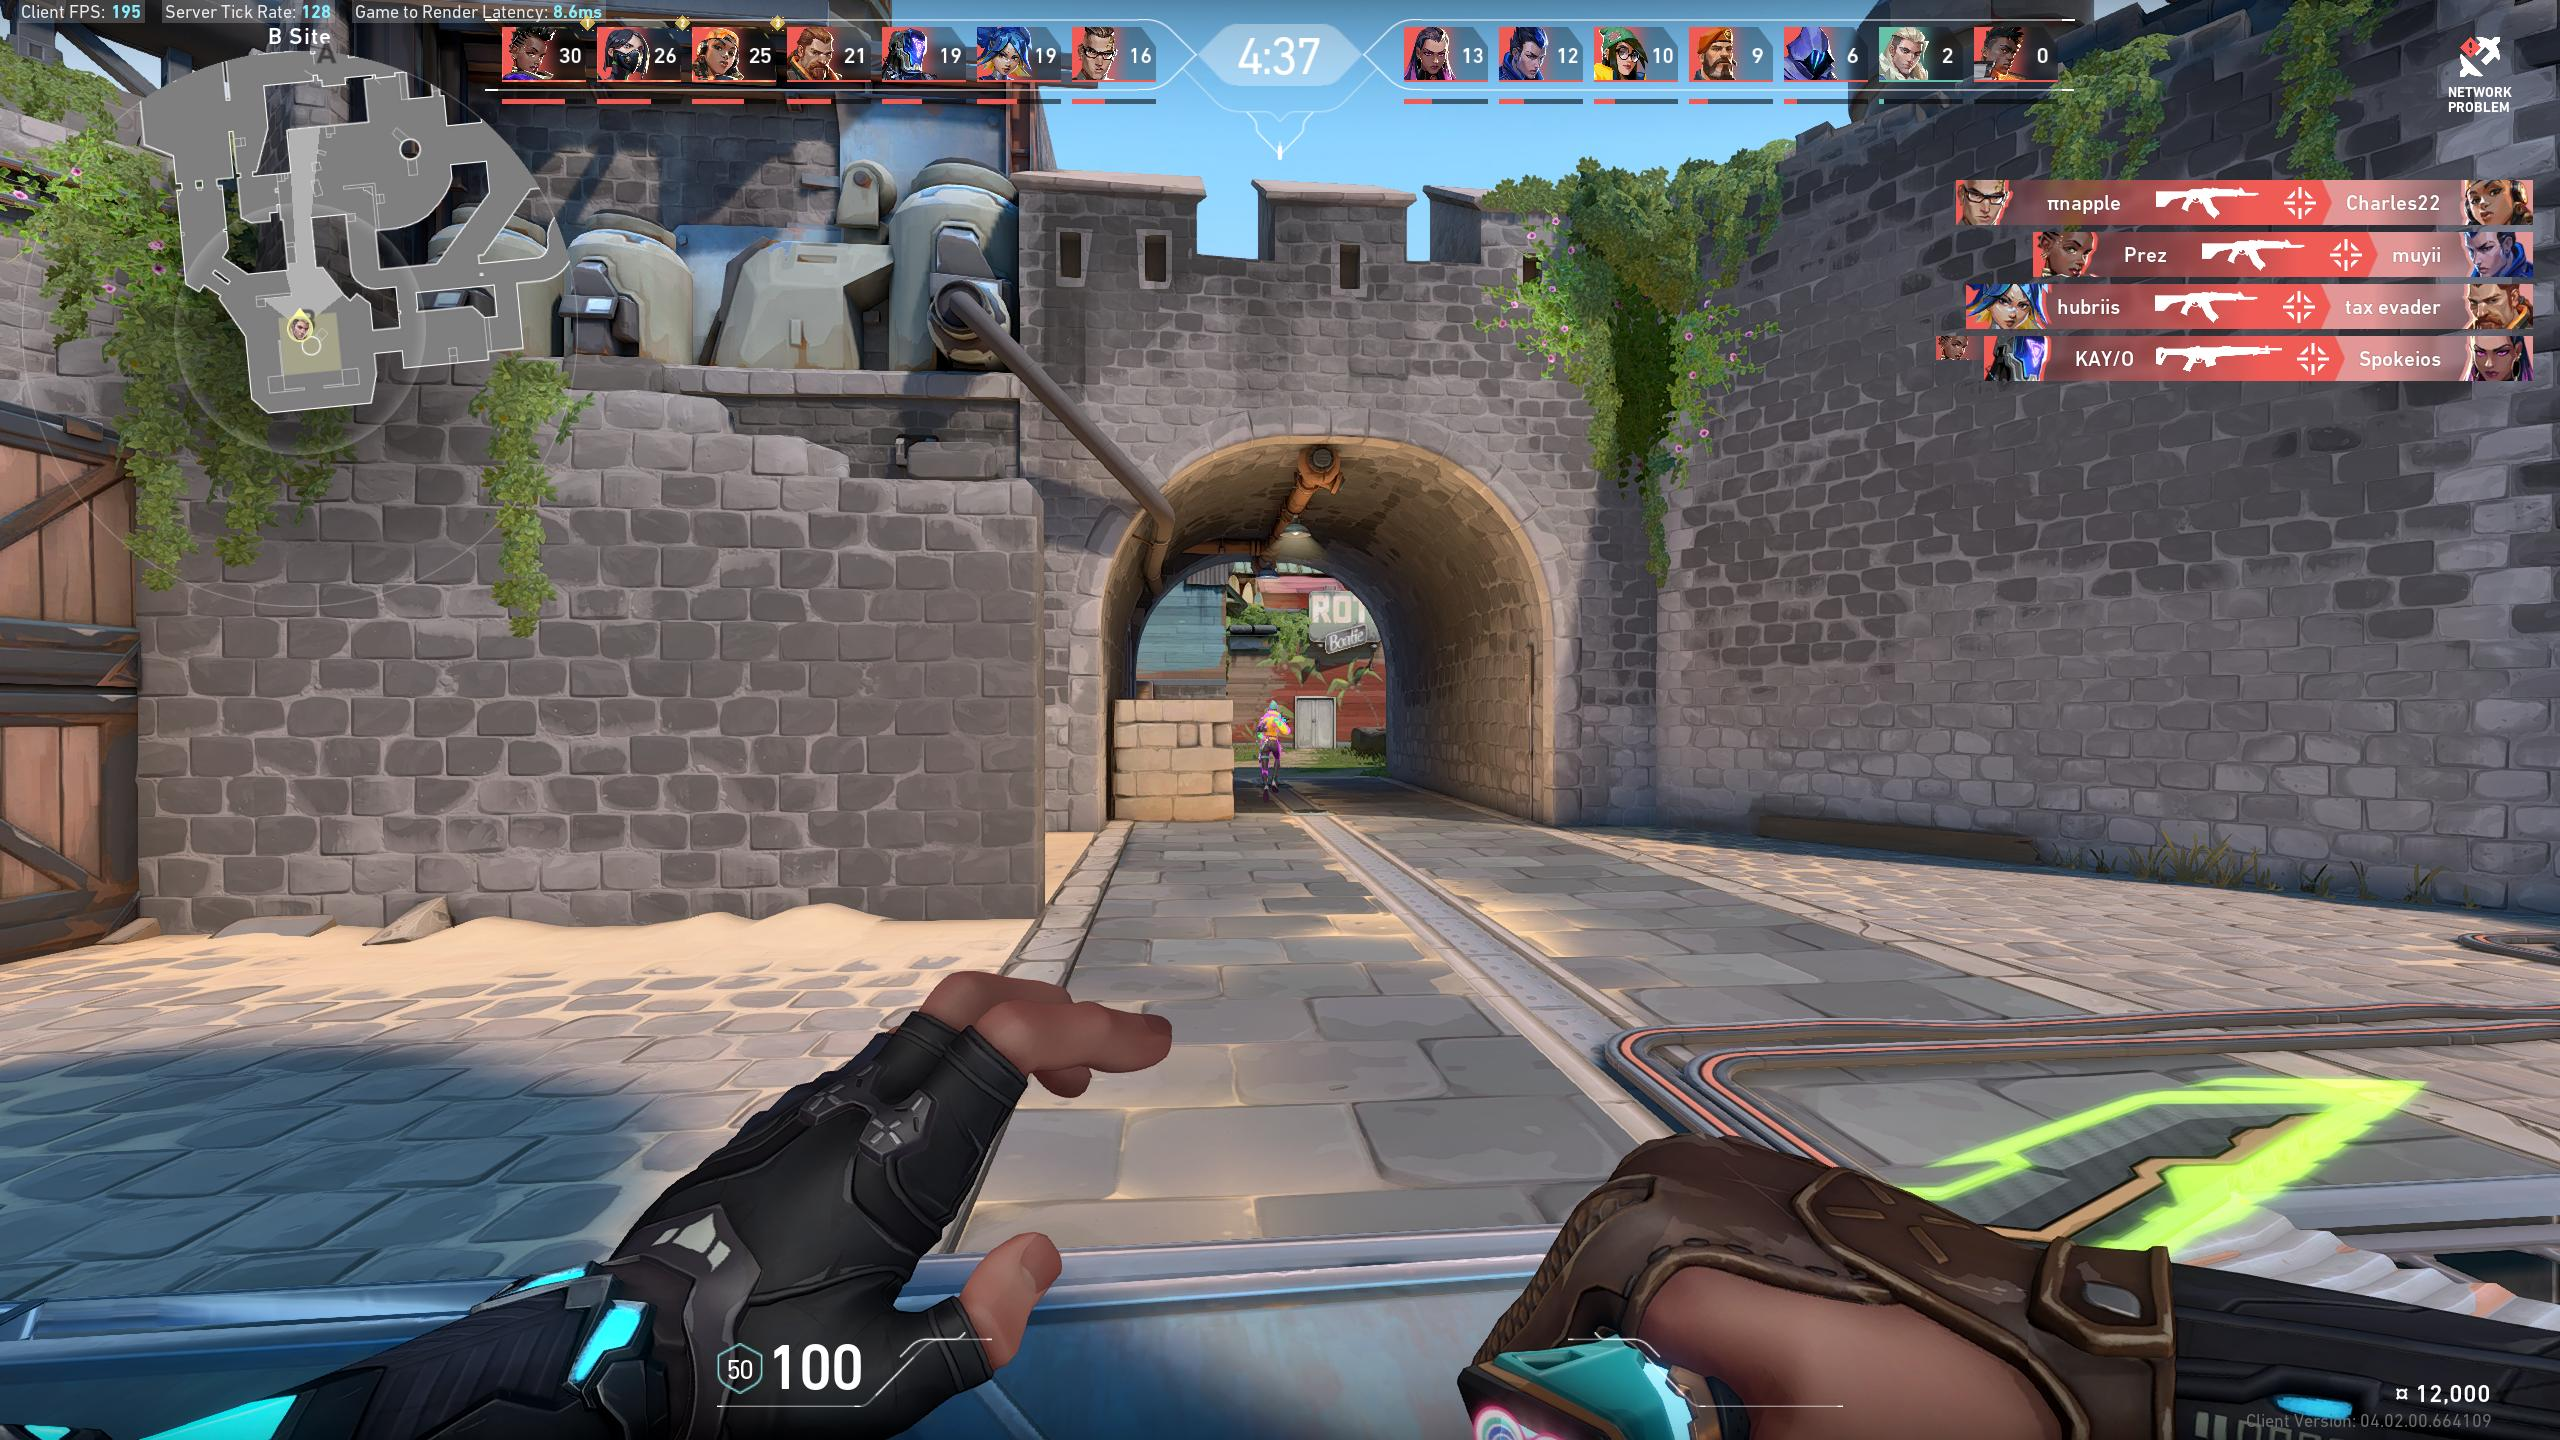enemyBody: (1262, 714, 1276, 737)
enemyHead: (1269, 707, 1276, 714)
